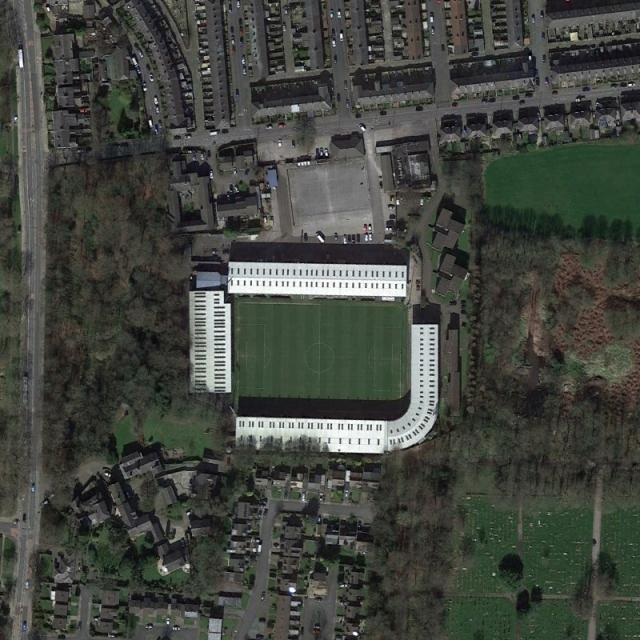vehicle: (18, 49, 24, 69), (315, 232, 325, 243), (338, 583, 348, 590), (358, 124, 366, 132), (131, 58, 138, 67), (209, 130, 219, 136), (25, 578, 30, 590), (22, 620, 28, 630), (91, 616, 101, 622), (252, 538, 262, 544), (344, 488, 350, 498), (222, 249, 230, 256), (187, 509, 194, 517), (138, 49, 144, 58), (544, 77, 550, 86), (451, 102, 460, 108), (387, 205, 396, 211), (30, 484, 36, 493), (40, 500, 49, 506), (144, 624, 153, 630), (332, 37, 337, 47), (337, 92, 342, 102), (312, 629, 322, 634), (238, 38, 244, 46), (278, 123, 286, 129), (582, 86, 590, 92), (610, 83, 618, 89), (419, 198, 425, 206), (142, 83, 147, 92), (46, 4, 51, 13), (230, 35, 235, 44), (333, 55, 338, 64), (319, 147, 324, 156), (379, 181, 384, 190), (415, 106, 424, 111), (367, 233, 372, 242), (263, 509, 268, 518), (258, 504, 267, 509), (540, 10, 545, 19), (154, 94, 158, 105), (348, 234, 352, 245), (302, 492, 306, 503), (258, 543, 262, 554), (619, 82, 626, 88), (518, 100, 525, 106), (148, 119, 153, 127), (158, 119, 162, 129), (79, 108, 87, 113), (325, 149, 330, 157), (430, 13, 434, 23), (532, 14, 536, 24), (542, 31, 546, 41), (542, 54, 546, 64), (535, 76, 539, 86), (481, 99, 489, 104), (363, 224, 368, 232), (386, 226, 394, 231), (172, 626, 180, 631), (262, 591, 266, 601), (313, 624, 321, 629), (260, 498, 268, 503), (330, 9, 334, 18), (150, 73, 154, 82), (236, 89, 240, 98), (346, 99, 350, 108), (315, 148, 319, 157), (431, 26, 435, 35), (380, 110, 386, 116), (334, 233, 338, 242), (351, 234, 355, 243), (356, 233, 360, 242), (364, 233, 368, 242), (339, 34, 344, 41), (137, 67, 142, 74), (184, 134, 191, 139), (76, 149, 83, 154), (114, 144, 121, 149), (221, 129, 228, 134), (551, 90, 558, 95), (526, 93, 533, 98), (489, 98, 496, 103), (272, 543, 279, 548), (237, 1, 241, 9), (238, 18, 242, 26), (242, 56, 246, 64), (265, 125, 273, 129), (210, 170, 214, 178), (234, 185, 238, 193), (278, 140, 282, 148), (344, 81, 348, 89), (58, 636, 66, 640), (166, 618, 170, 626), (314, 598, 322, 602), (258, 510, 262, 518), (343, 234, 346, 244), (155, 106, 159, 113), (230, 26, 234, 33), (200, 153, 204, 160), (628, 82, 635, 86), (239, 28, 242, 37), (243, 66, 246, 75), (230, 184, 233, 193), (304, 233, 307, 242), (229, 5, 232, 13), (232, 46, 235, 54), (210, 250, 216, 254), (355, 114, 361, 118), (368, 224, 372, 230), (105, 473, 111, 477), (291, 142, 294, 148)
